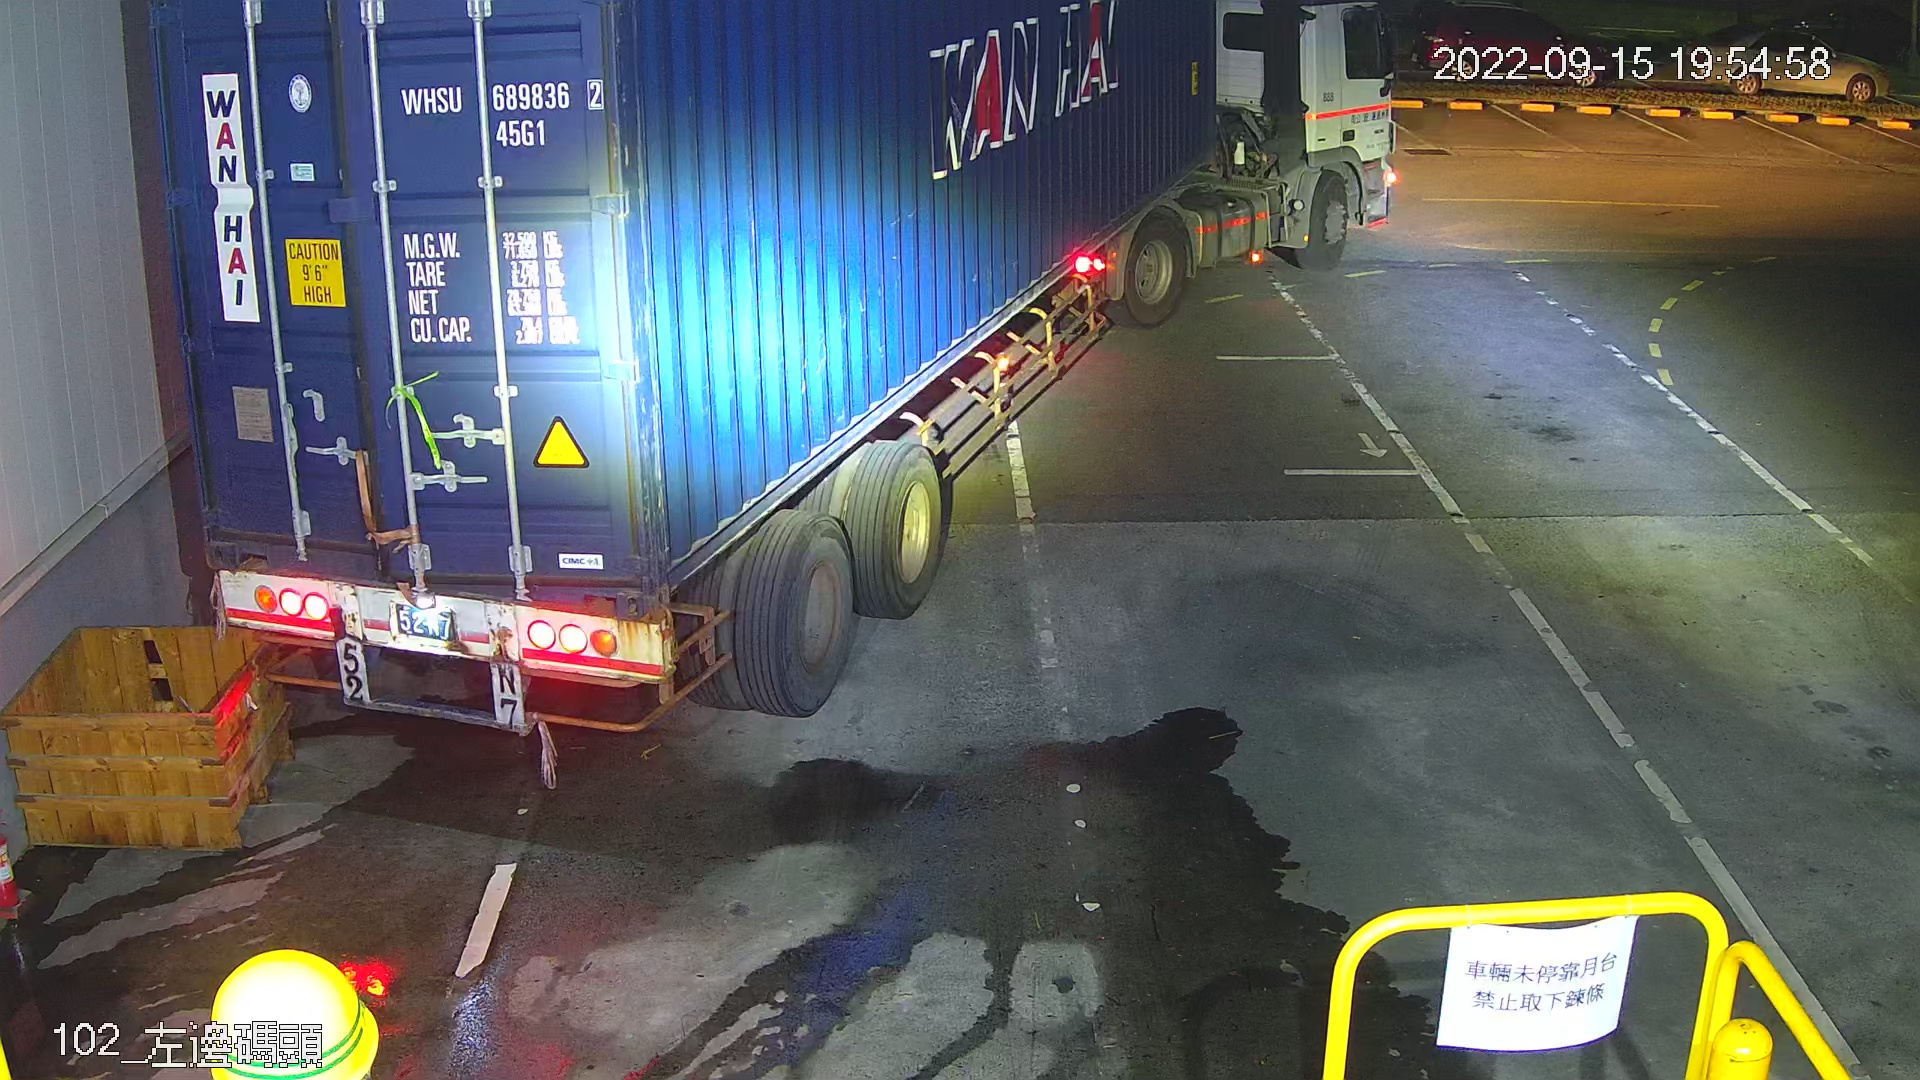container: (385, 73, 612, 156)
